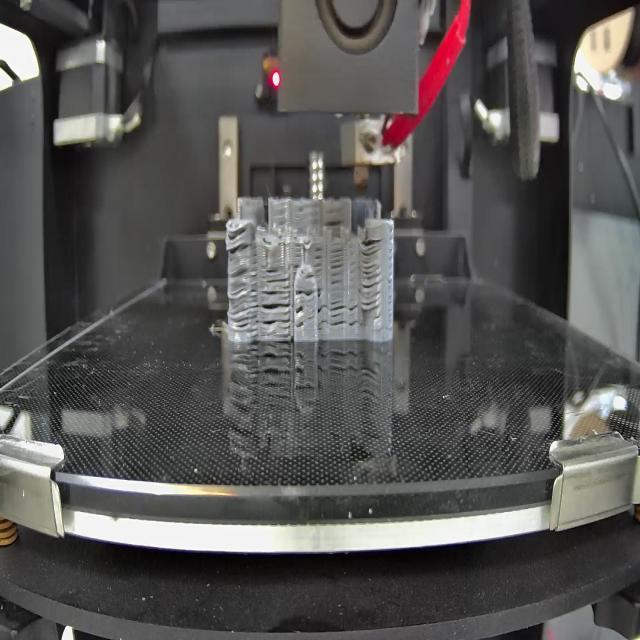cracks: (228, 268, 258, 336), (359, 238, 383, 311), (260, 290, 294, 331), (226, 225, 252, 255), (262, 268, 292, 287), (330, 248, 344, 288), (389, 226, 394, 315), (328, 303, 346, 327), (294, 288, 323, 300), (348, 300, 359, 329), (294, 305, 306, 330), (316, 305, 329, 328), (313, 249, 324, 273), (252, 246, 260, 267), (323, 220, 344, 227), (293, 244, 302, 260), (307, 314, 316, 320), (375, 315, 381, 319)
